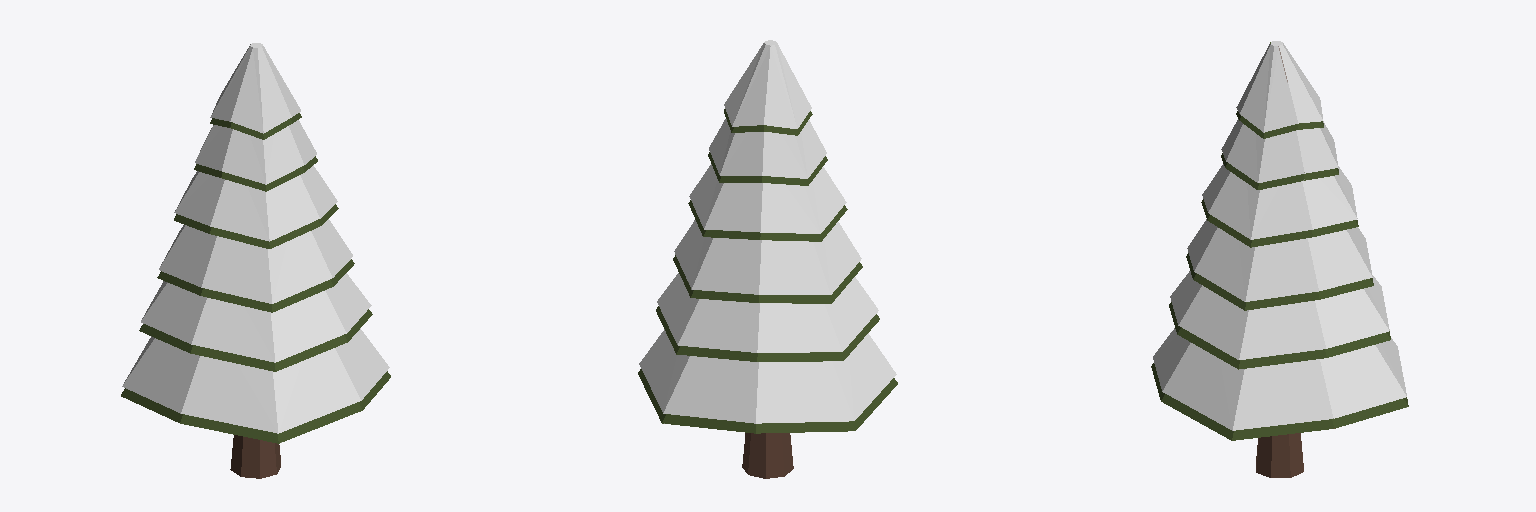
3 renders of one model, left to right at view 1: azimuth 30°, elevation 25°; view 2: azimuth 150°, elevation 25°; view 3: azimuth 270°, elevation 25°, orthographic.
Visible parts, largest first — view 1: Conifer_snow; view 2: Conifer_snow; view 3: Conifer_snow.
Boxes of the visible parts, <box> form: Conifer_snow: <box>121,43,390,478</box>; Conifer_snow: <box>638,40,897,478</box>; Conifer_snow: <box>1151,41,1408,477</box>.
Size of the model in its own units: 0.6341 by 1.15 by 0.6341.
1 materials, 1 textured.